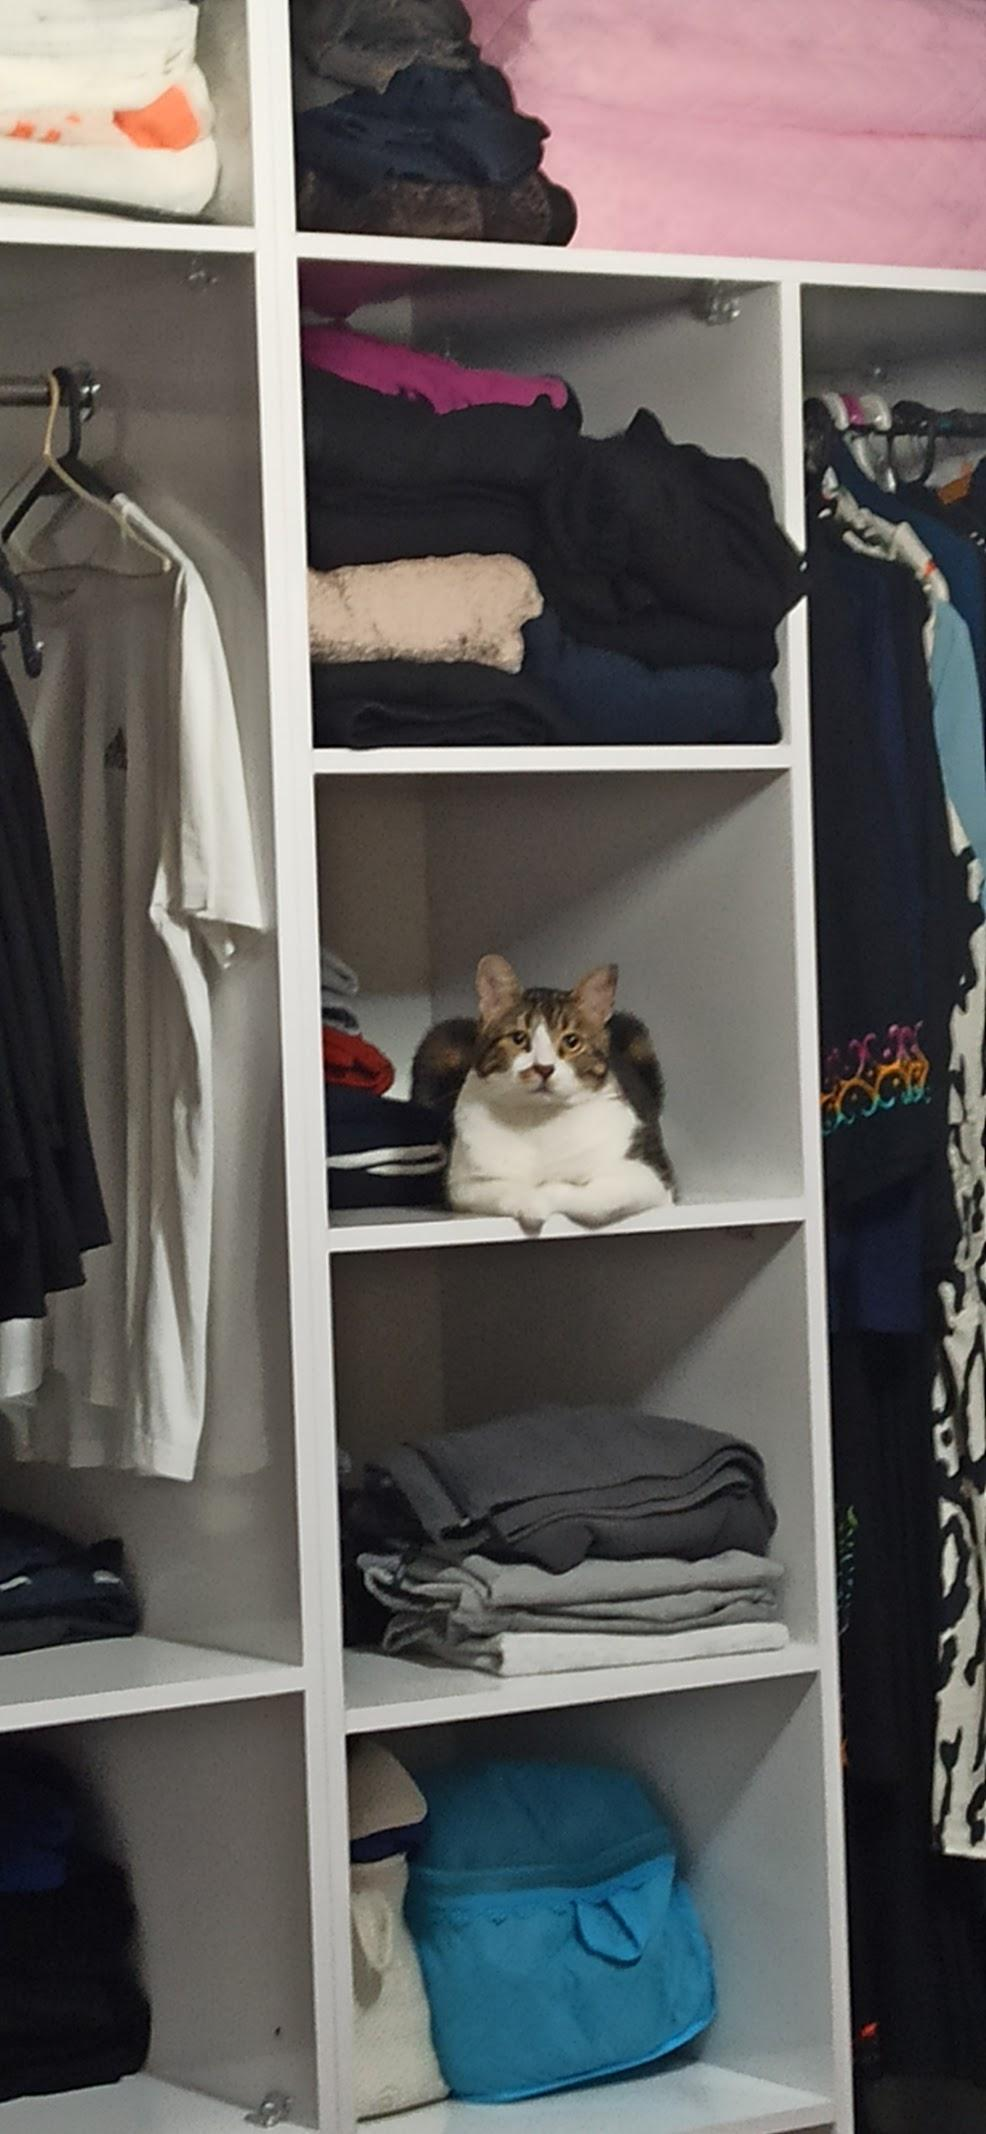kedo: (418, 953, 680, 1224)
